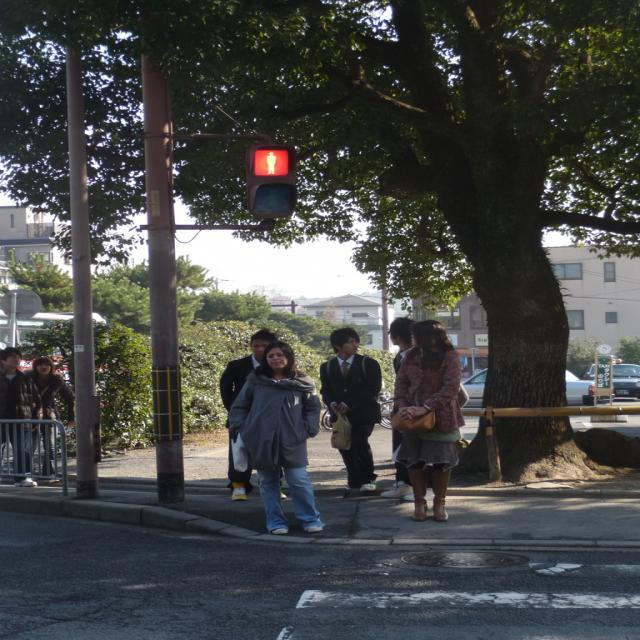traffic light: (246, 143, 298, 220)
